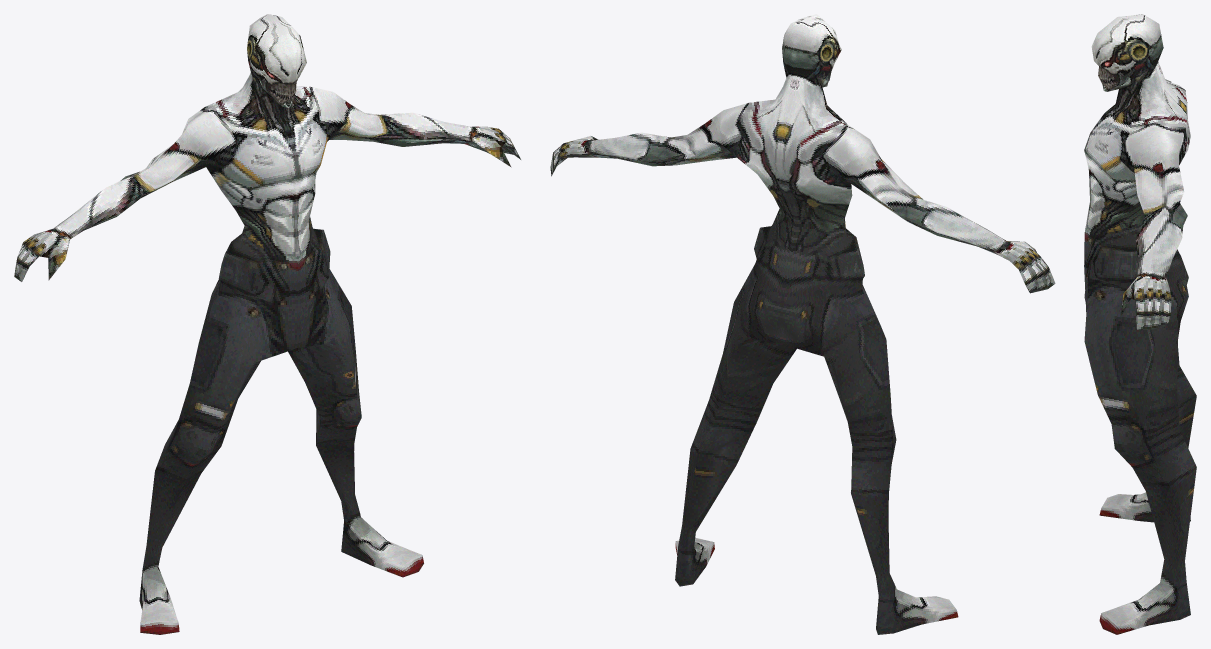
The model's file is com.demensdeum.flame-steel-death-mask-2.filter.model.glb.
3 views of the same model, side by side, from view 1: azimuth 30°, elevation 25°; view 2: azimuth 150°, elevation 25°; view 3: azimuth 270°, elevation 25° (orthographic). The views are drawn at different scales.
Parts seen in each view (by area): view 1: Object_2; view 2: Object_2; view 3: Object_2.
Part boxes in pixels (x1,y1,x2,y2): Object_2: (14,14,520,634); Object_2: (550,14,1055,634); Object_2: (1084,14,1196,634).
Size of the model in its own units: 0.8628 by 0.9467 by 0.1748.
1 material, 1 textured.
